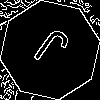J: (25, 25, 73, 78)
